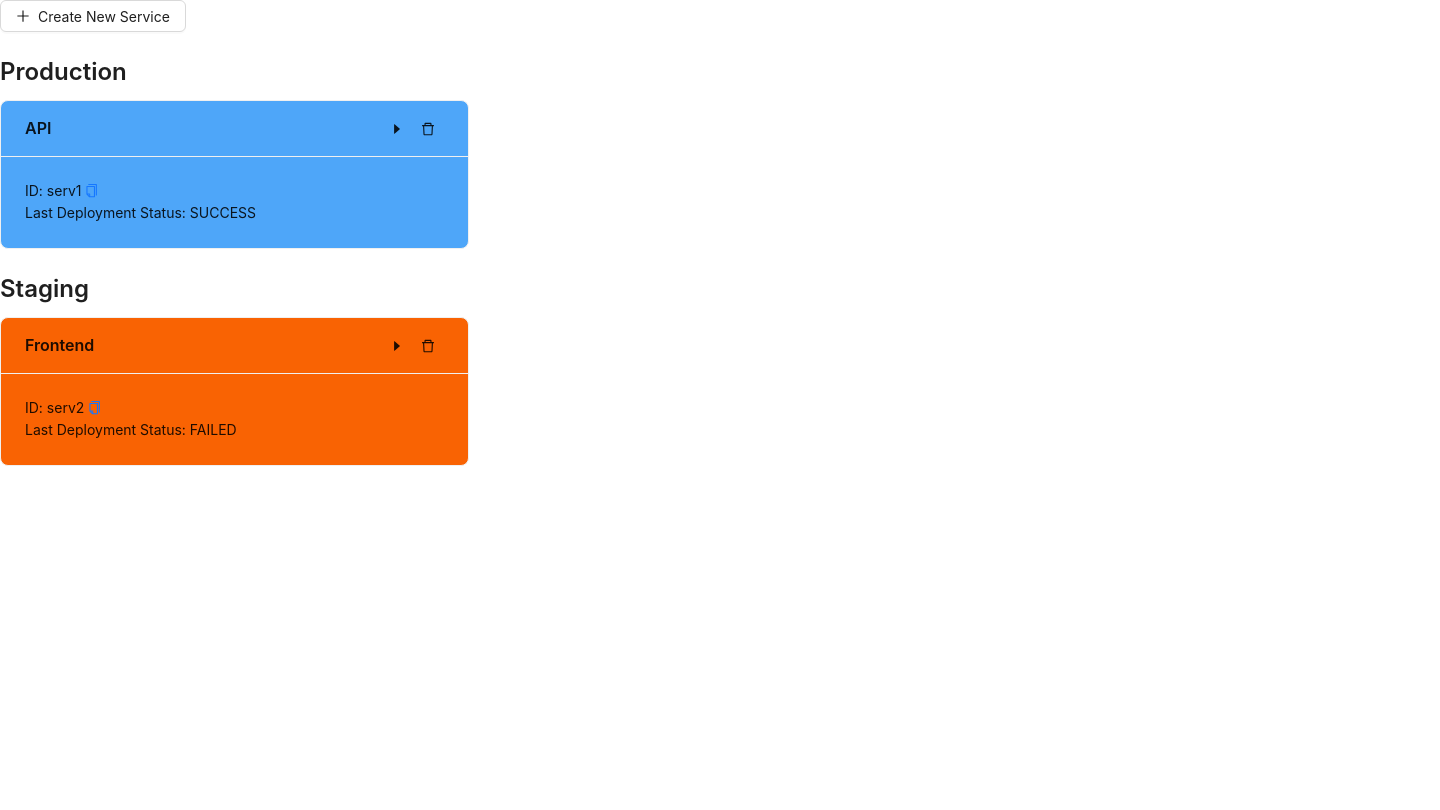
Test case: ServicesList › opens modal when "Create New Service" button is clicked
Check: the text "Create New Service" is shown, box [38,8,170,24]
Click the "Create New Service" button
Click the button "Create New Service": {"x": 93, "y": 16} [0,0,186,32]
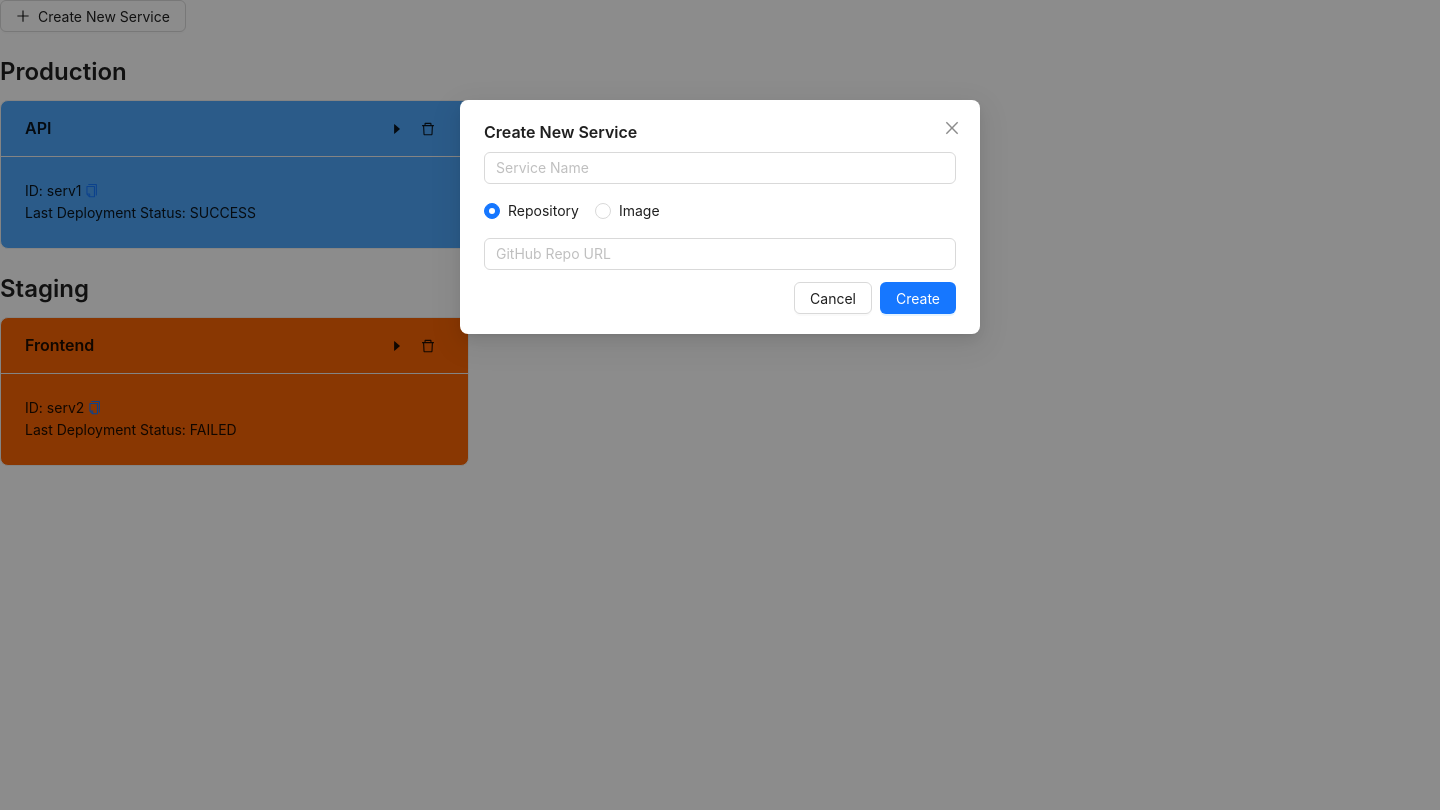
Check: the dialog is shown, box [460,100,980,358]
Check: the field with placeholder "Service Name" is shown, box [484,152,956,184]
Check: the text "Repository" is shown, box [508,202,579,219]
